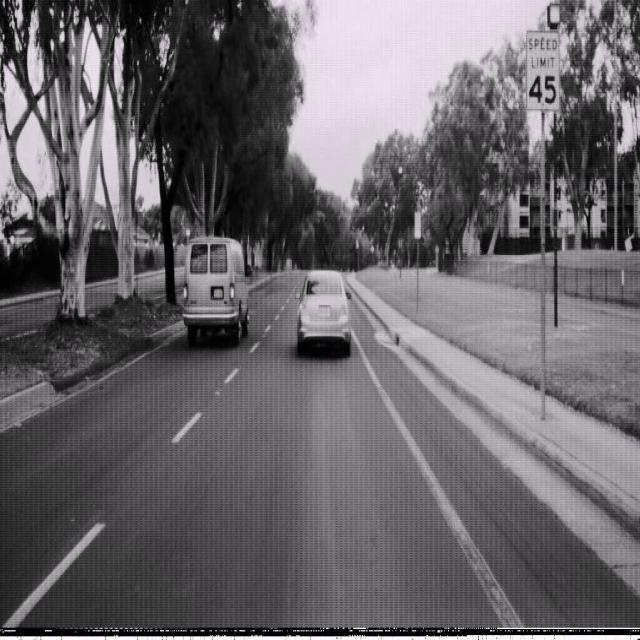speedLimit45: (525, 28, 560, 114)
